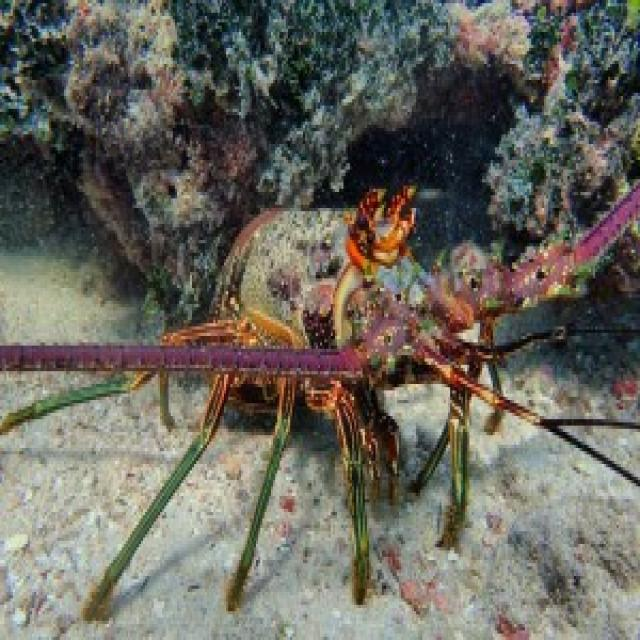lobsters: (88, 106, 638, 561)
